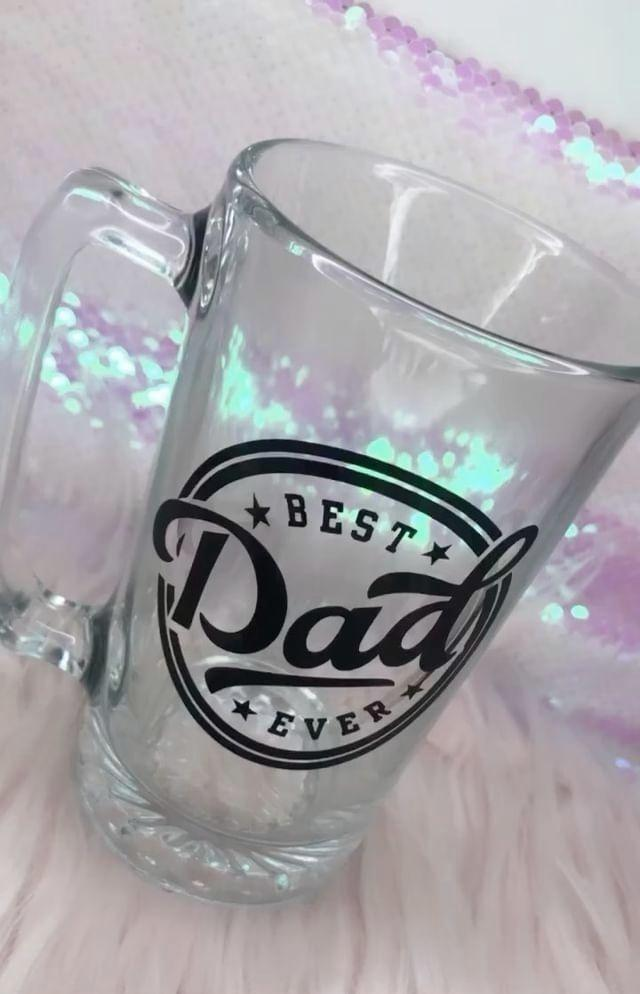glass-mug: (0, 115, 640, 917)
